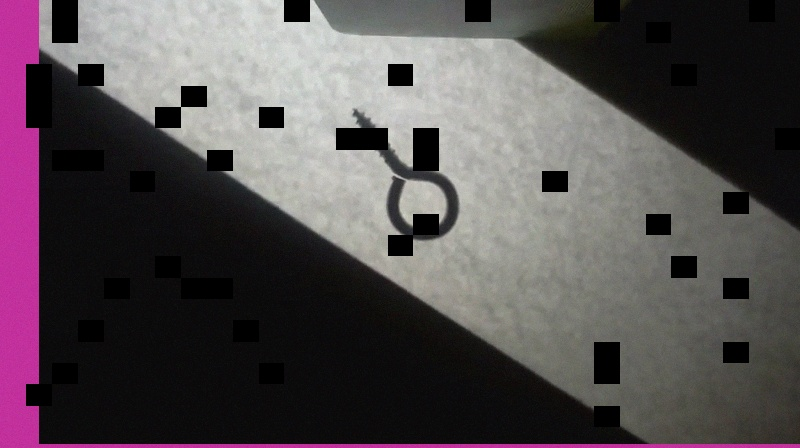O001: (348, 103, 462, 241)
